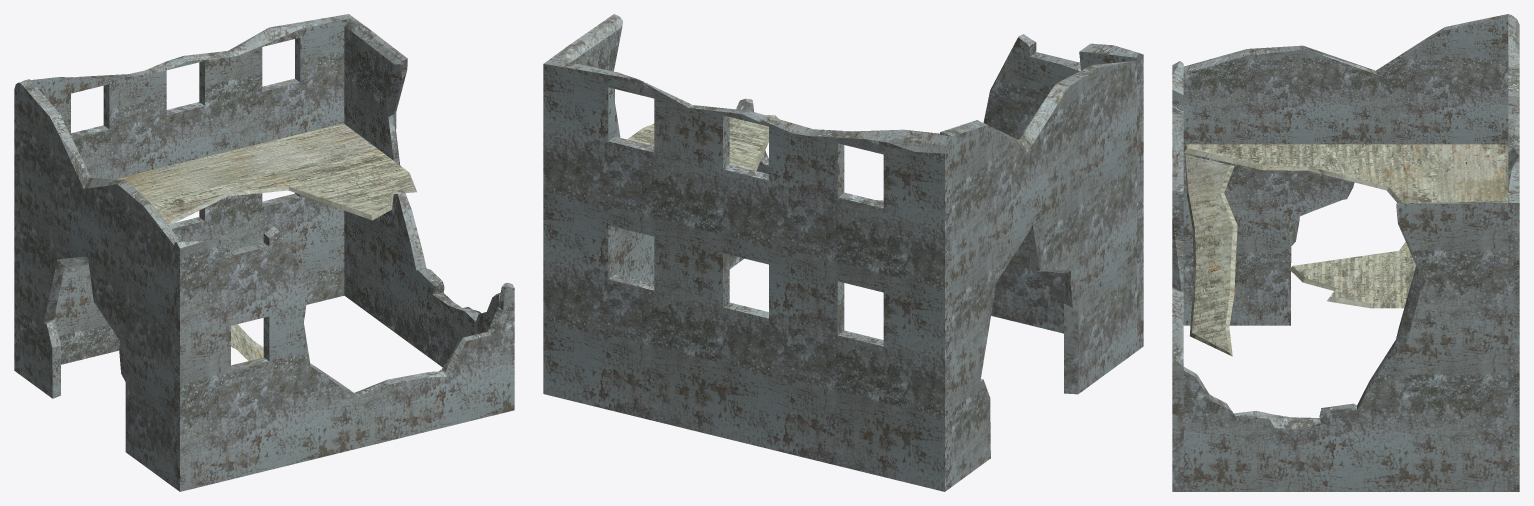
Rendered from nha5 1.fbx.
The picture shows the model from 3 angles, left to right: view 1: azimuth 30°, elevation 25°; view 2: azimuth 150°, elevation 25°; view 3: azimuth 270°, elevation 25°; orthographic projection. The views are drawn at different scales.
Parts seen in each view (by area): view 1: Plane.002, Plane.004, Plane.005, Plane.003, Plane.001, Cube; view 2: Plane.004, Plane.005, Plane.002, Plane.003, Plane.001; view 3: Plane.003, Plane.005, Plane.001, Cube, Plane.004, Plane.002.
Boxes of the visible parts, left/top/right/bottom form: Plane.002: left=174, top=226, right=514, bottom=491; Plane.004: left=14, top=14, right=353, bottom=374; Plane.005: left=20, top=79, right=180, bottom=487; Plane.003: left=344, top=18, right=500, bottom=367; Plane.001: left=115, top=123, right=416, bottom=229; Cube: left=231, top=324, right=263, bottom=360; Plane.004: left=543, top=59, right=951, bottom=491; Plane.005: left=940, top=61, right=1136, bottom=486; Plane.002: left=736, top=34, right=1143, bottom=350; Plane.003: left=550, top=14, right=743, bottom=283; Plane.001: left=627, top=115, right=883, bottom=201; Plane.003: left=1183, top=201, right=1508, bottom=491; Plane.005: left=1183, top=14, right=1508, bottom=325; Plane.001: left=1183, top=144, right=1508, bottom=308; Cube: left=1185, top=154, right=1237, bottom=356; Plane.004: left=1508, top=14, right=1519, bottom=491; Plane.002: left=1172, top=61, right=1183, bottom=491.
Size of the model in its own units: 700 by 587 by 600.
2 materials, 2 textured.
